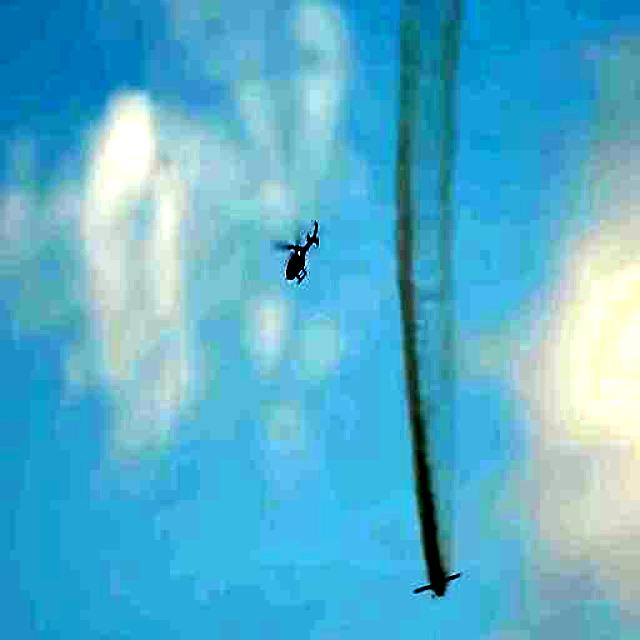drone: (278, 222, 328, 289)
